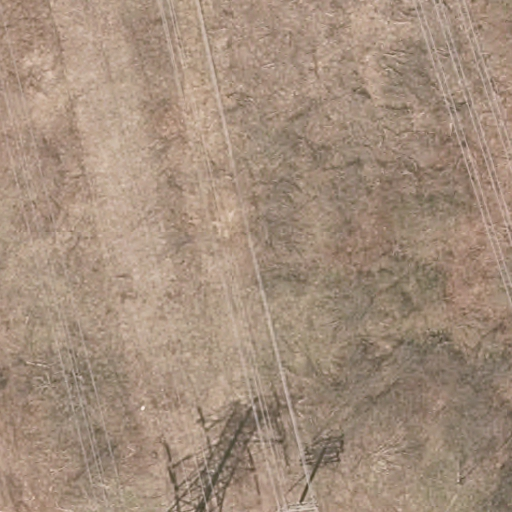TT: (165, 393, 287, 512), (292, 432, 344, 512)
